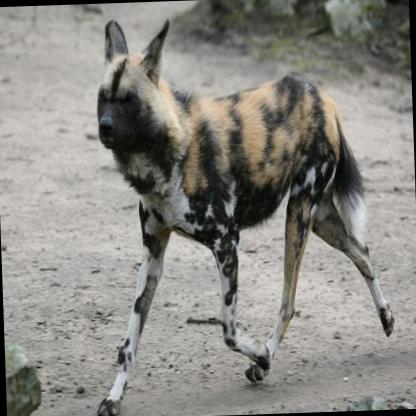African_hunting_dog: (83, 8, 400, 416)
